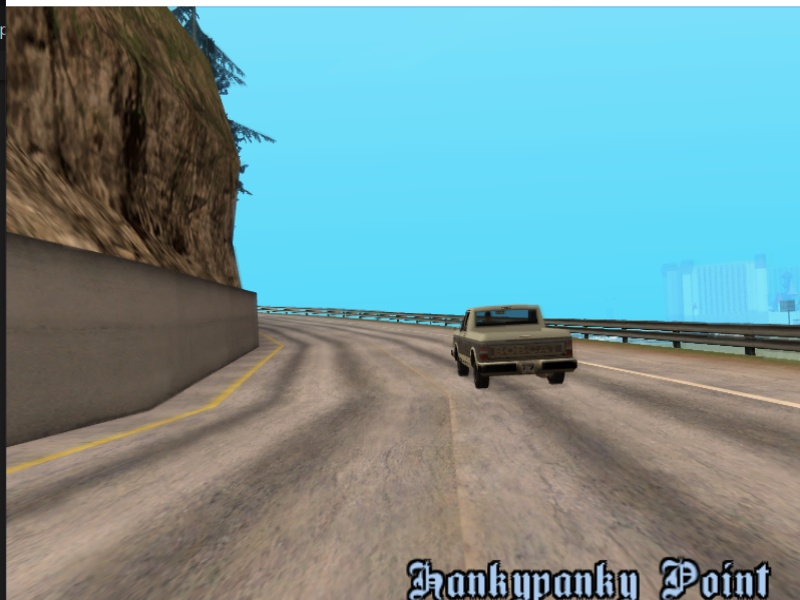vehicle: (450, 301, 583, 389)
